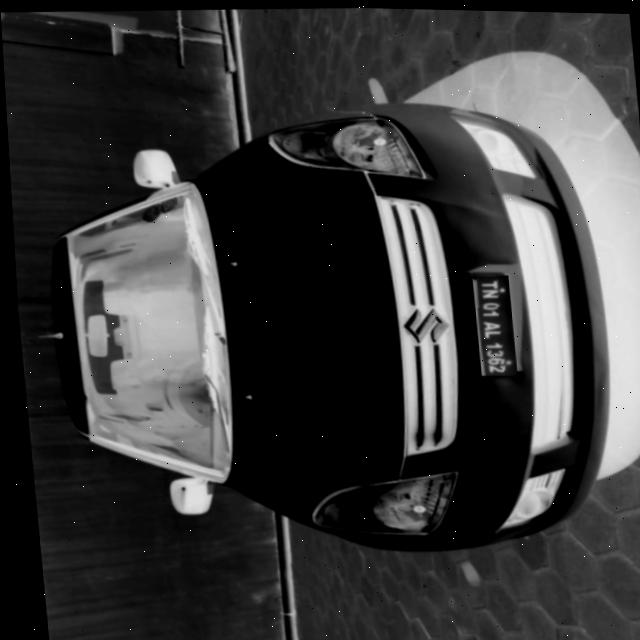Non_registered: (469, 270, 512, 372)
